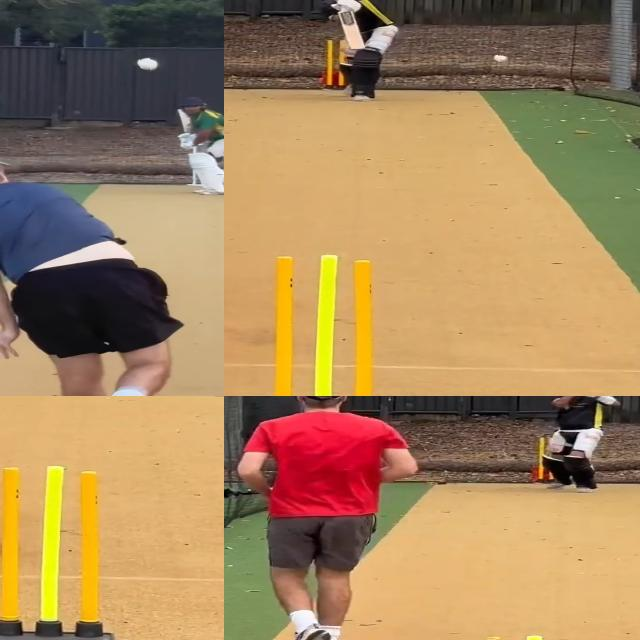Cricket ball: (134, 54, 163, 72), (492, 53, 510, 65)
Stumps: (0, 460, 115, 640), (252, 252, 390, 396)
